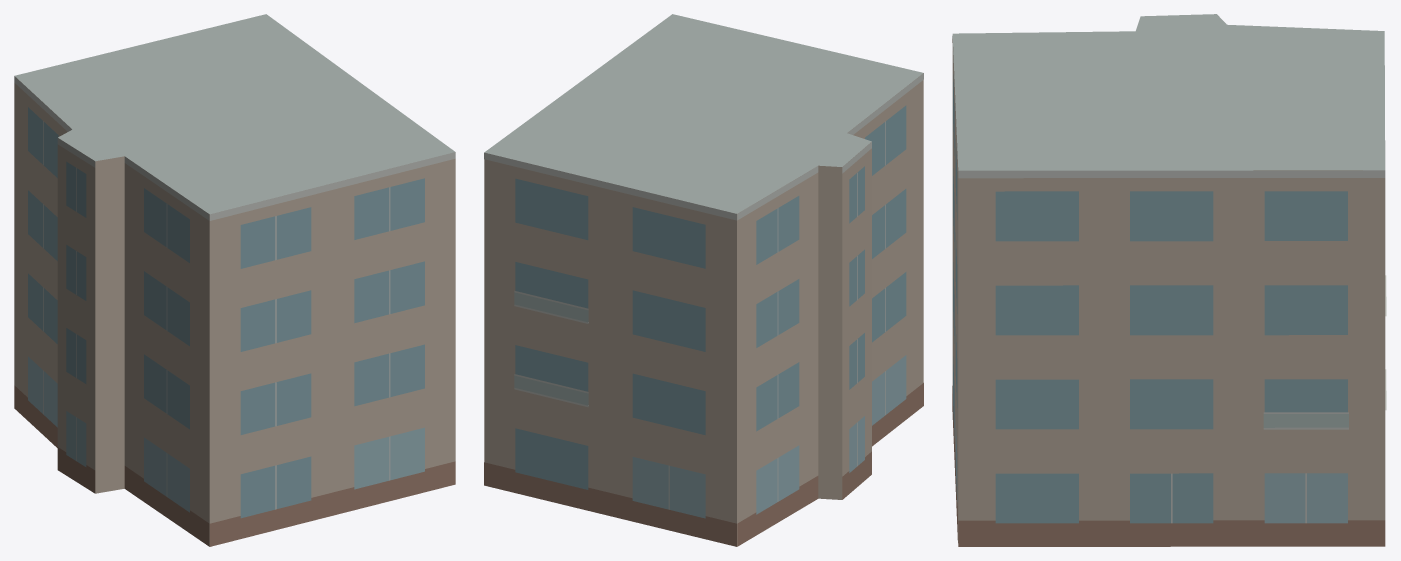
File: survey-upis-32706665.glb
3 renders of one model, left to right at view 1: azimuth 30°, elevation 25°; view 2: azimuth 150°, elevation 25°; view 3: azimuth 270°, elevation 25°, orthographic. The views are drawn at different scales.
Visible parts, largest first — view 1: survey-upis-32706665.tmp; view 2: survey-upis-32706665.tmp; view 3: survey-upis-32706665.tmp.
Boxes of the visible parts, x1,y1,x2,y2 form: survey-upis-32706665.tmp: (14, 14, 455, 546); survey-upis-32706665.tmp: (484, 14, 923, 546); survey-upis-32706665.tmp: (952, 14, 1386, 546).
Bounding box in the file's own units: 10.92 × 12.2 × 12.76.
